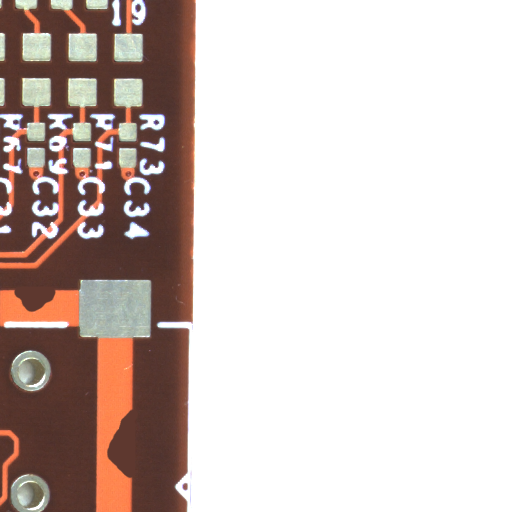Mouse_bite: (121, 443, 165, 512), (36, 297, 93, 328)
